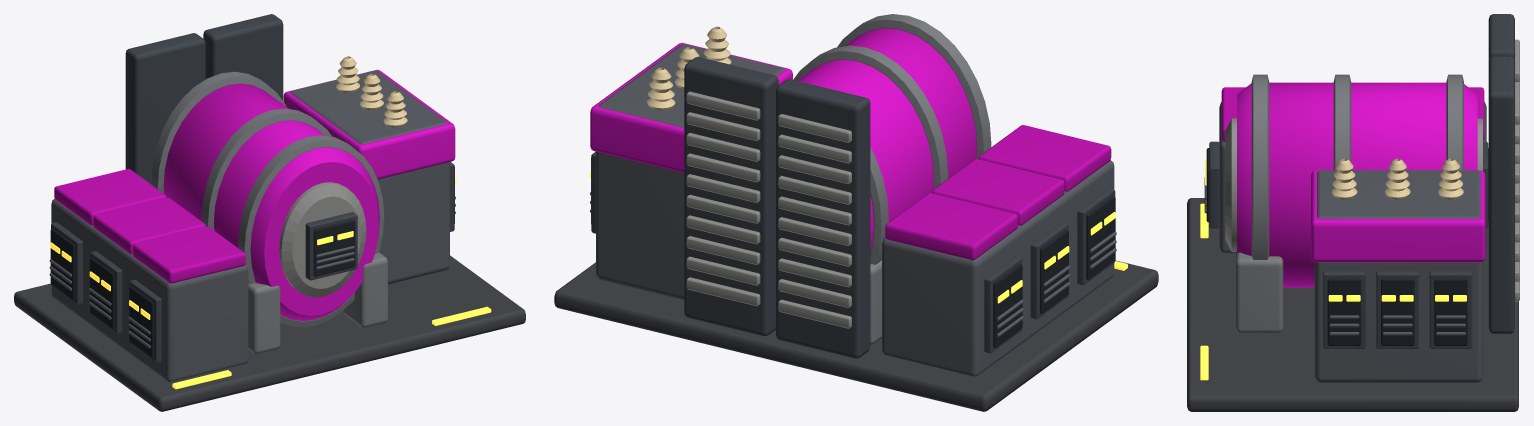
The model's file is power-plant.glb.
3 views of the same model, side by side, from view 1: azimuth 30°, elevation 25°; view 2: azimuth 150°, elevation 25°; view 3: azimuth 270°, elevation 25° (orthographic). The views are drawn at different scales.
Visible parts, largest first — view 1: Power-Plant.001; view 2: Power-Plant.001; view 3: Power-Plant.001.
Boxes of the visible parts, x1,y1,x2,y2 form: Power-Plant.001: [14, 14, 525, 411]; Power-Plant.001: [554, 14, 1158, 411]; Power-Plant.001: [1187, 14, 1519, 411].
Size of the model in its own units: 3.1 by 1.88 by 2.17.
